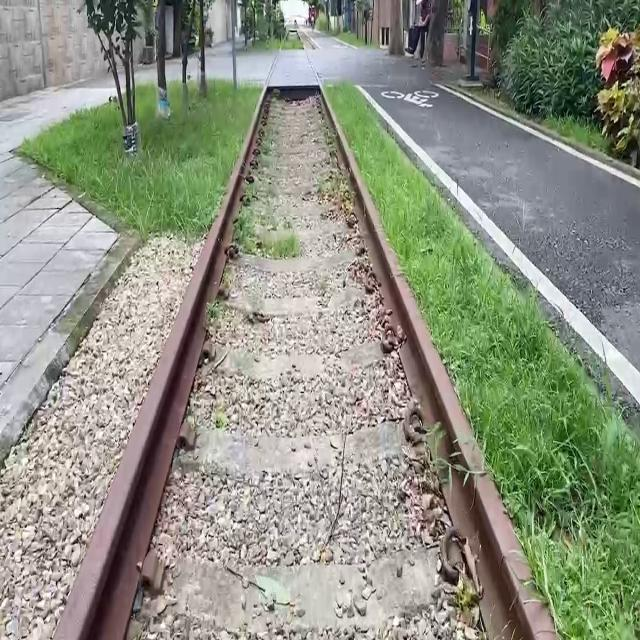rail-track: (128, 88, 484, 639), (268, 50, 319, 87)
